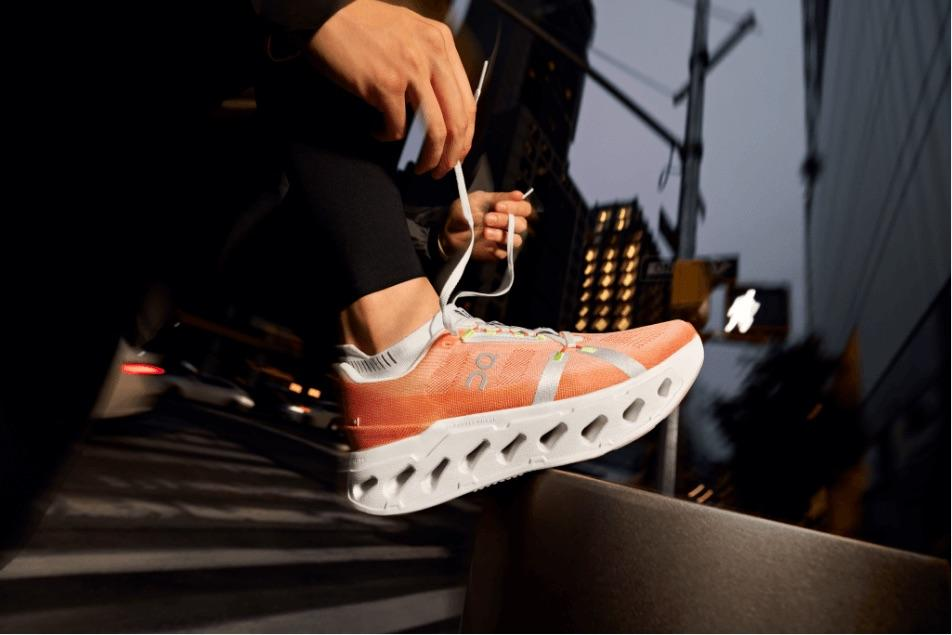OC_logo: (441, 344, 523, 399)
